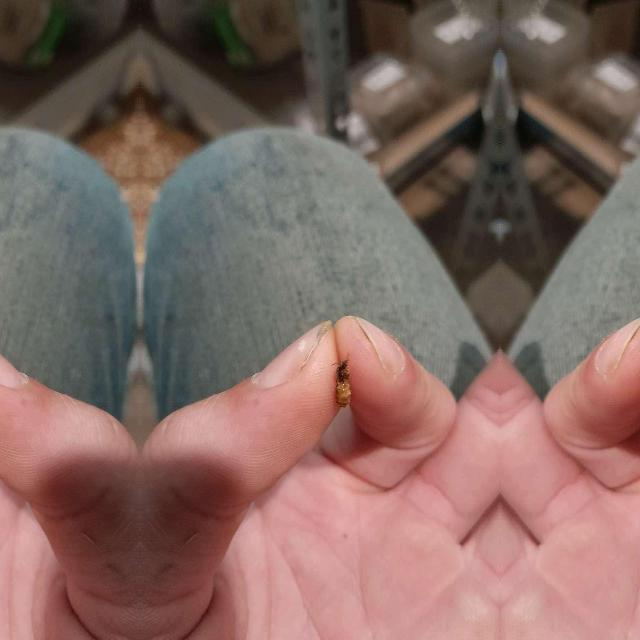Lasius: (326, 341, 359, 411)
